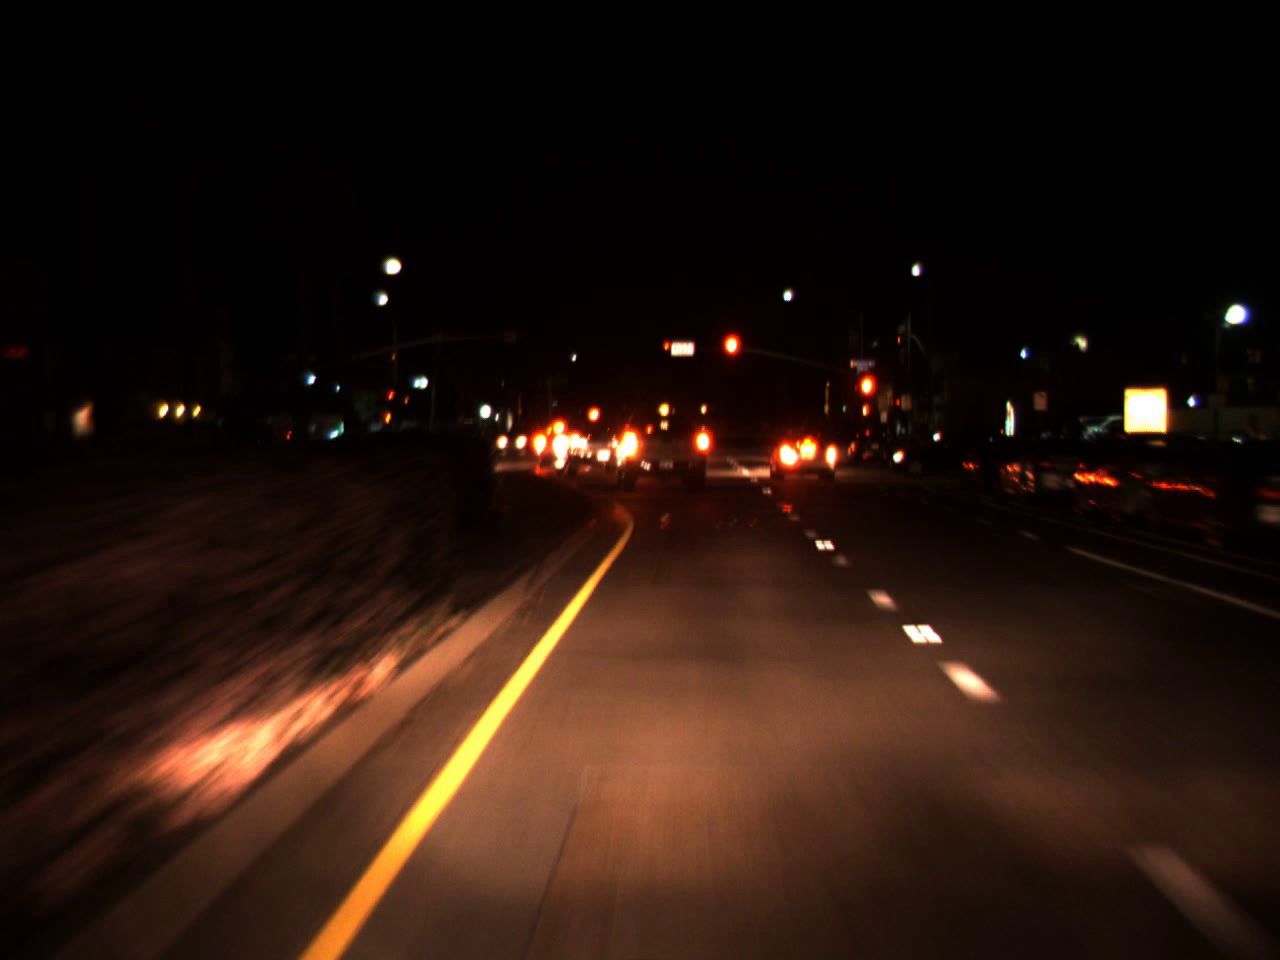stop: (720, 329, 744, 383), (857, 371, 878, 422), (662, 340, 671, 361), (388, 390, 394, 408)
